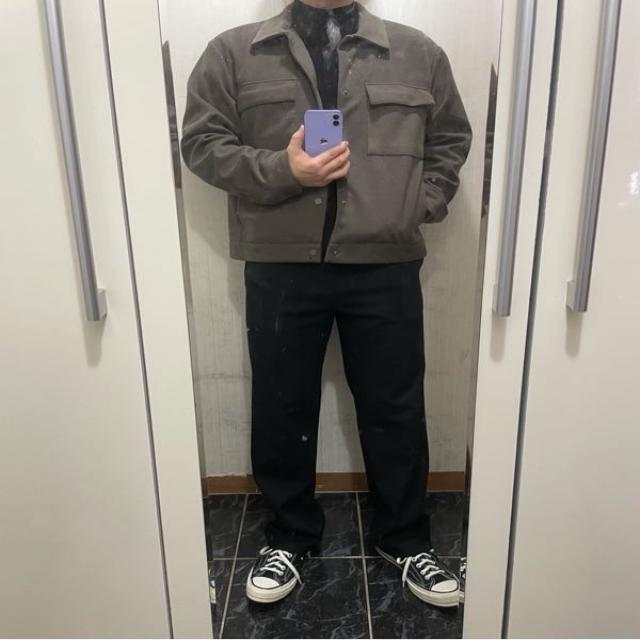jacket: (178, 0, 470, 264)
slacks: (241, 259, 429, 561)
